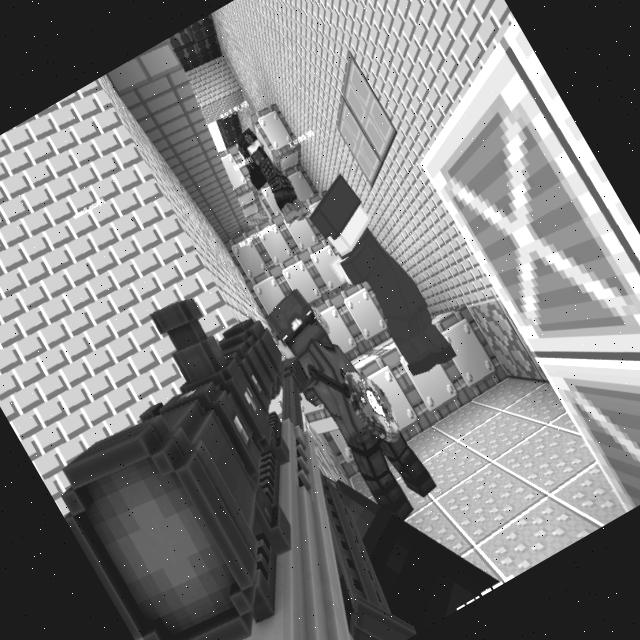Head: (297, 170, 383, 263), (260, 285, 333, 366), (232, 125, 267, 162)
Player: (254, 274, 446, 532), (294, 168, 458, 387), (228, 120, 312, 230)
